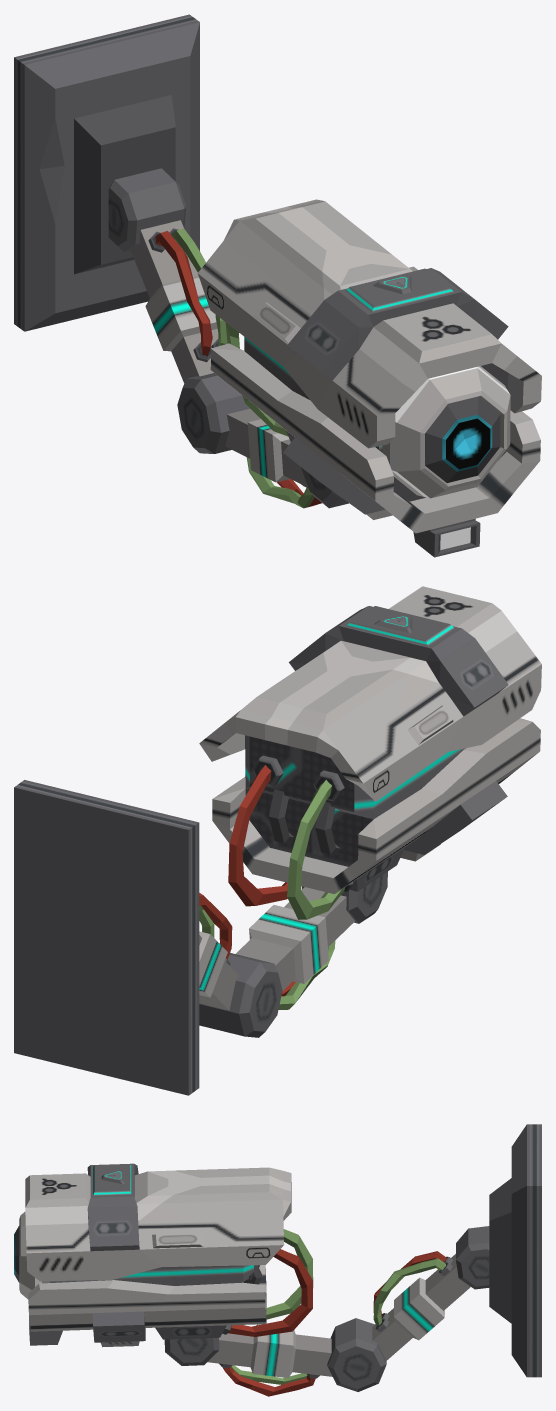
The model's file is SM_Prop_Camera_01.fbx.
The picture shows the model from 3 angles, top to bottom: view 1: azimuth 30°, elevation 25°; view 2: azimuth 150°, elevation 25°; view 3: azimuth 270°, elevation 25°; orthographic projection. The views are drawn at different scales.
Visible parts, largest first — view 1: SM_Prop_Camera_01_Base_01, SM_Prop_Camera_01; view 2: SM_Prop_Camera_01_Base_01, SM_Prop_Camera_01; view 3: SM_Prop_Camera_01_Base_01, SM_Prop_Camera_01.
Part boxes in pixels (<box>): SM_Prop_Camera_01_Base_01: <box>197,199,541,557</box>; SM_Prop_Camera_01: <box>14,14,348,508</box>; SM_Prop_Camera_01_Base_01: <box>199,586,541,919</box>; SM_Prop_Camera_01: <box>14,780,387,1095</box>; SM_Prop_Camera_01_Base_01: <box>14,1163,313,1347</box>; SM_Prop_Camera_01: <box>164,1124,541,1396</box>.
Size of the model in its own units: 30.23 by 50.53 by 102.
